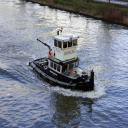tugboat: (29, 27, 96, 95)
